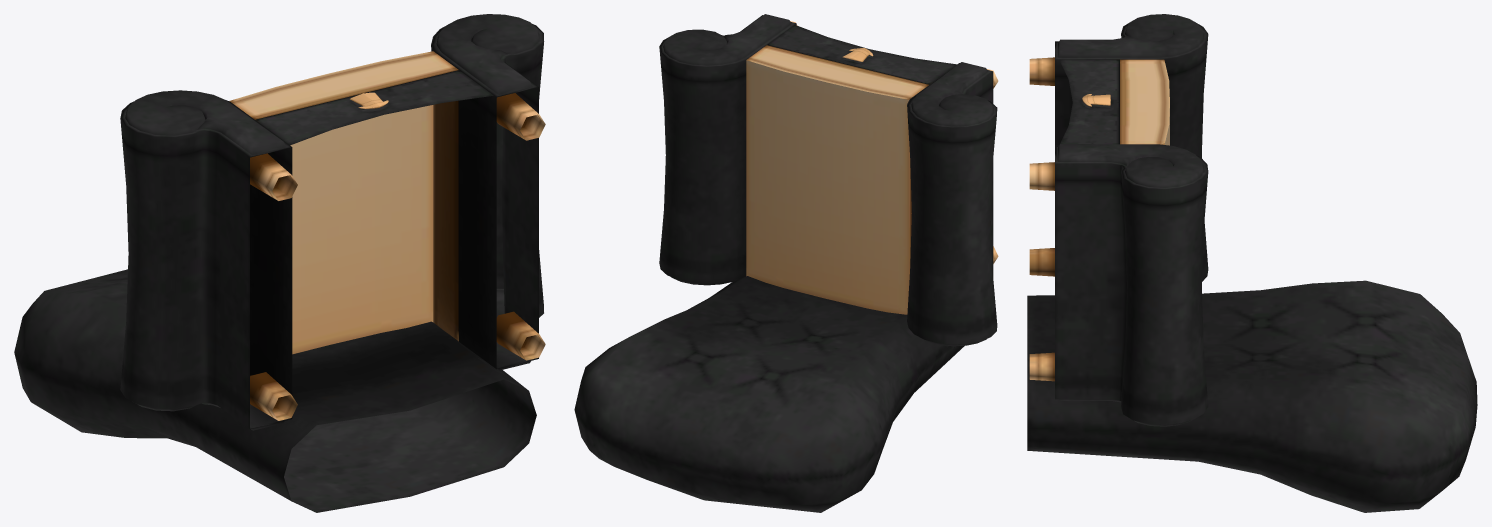
File: HomeChairL.obj
The picture shows the model from 3 angles, left to right: view 1: azimuth 30°, elevation 25°; view 2: azimuth 150°, elevation 25°; view 3: azimuth 270°, elevation 25°; orthographic projection. The views are drawn at different scales.
Visible parts, largest first — view 1: ChairL__BodyLMT; view 2: ChairL__BodyLMT; view 3: ChairL__BodyLMT.
Part boxes in pixels (<box>): ChairL__BodyLMT: <box>14,14,545,512</box>; ChairL__BodyLMT: <box>574,14,998,512</box>; ChairL__BodyLMT: <box>1027,14,1477,512</box>.
Bounding box in the file's own units: 173 × 170 × 189.
